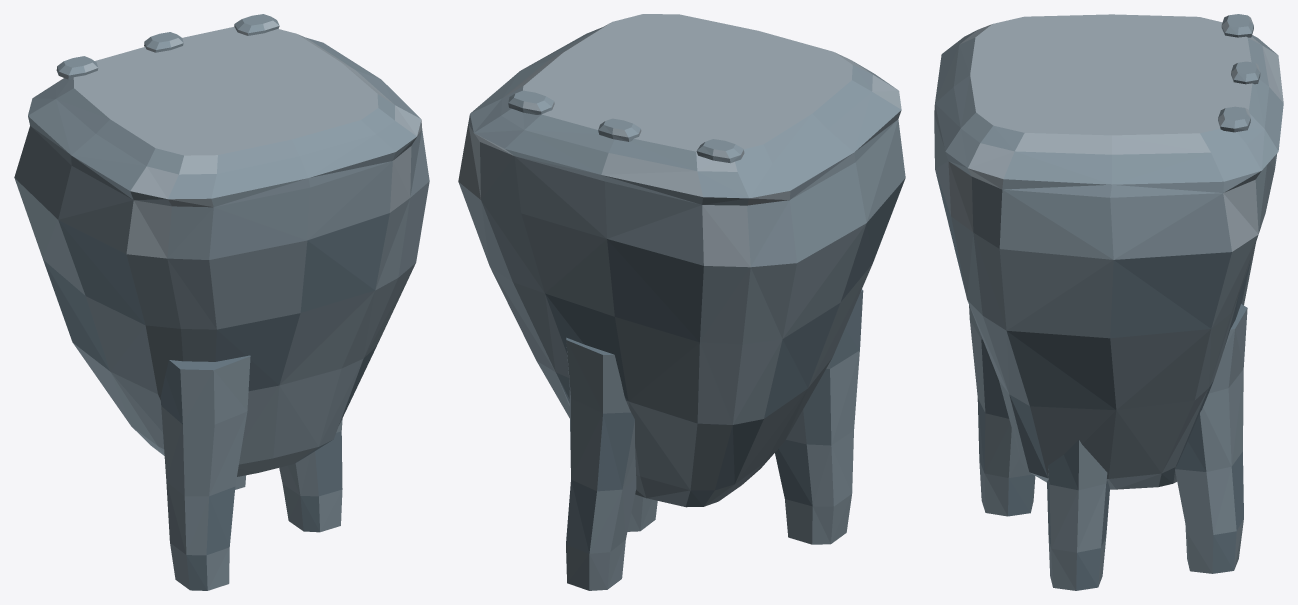
The model's file is geo01_large_cloud_sea_island_v2.glb.
3 views of the same model, side by side, from view 1: azimuth 30°, elevation 25°; view 2: azimuth 150°, elevation 25°; view 3: azimuth 270°, elevation 25° (orthographic). The views are drawn at different scales.
Parts seen in each view (by area): view 1: GEO01_Terrain_Large_CloudSea_Island_v2; view 2: GEO01_Terrain_Large_CloudSea_Island_v2; view 3: GEO01_Terrain_Large_CloudSea_Island_v2.
Part boxes in pixels (x1,y1,x2,y2): GEO01_Terrain_Large_CloudSea_Island_v2: (14, 14, 429, 590); GEO01_Terrain_Large_CloudSea_Island_v2: (458, 14, 905, 590); GEO01_Terrain_Large_CloudSea_Island_v2: (934, 14, 1283, 590).
Size of the model in its own units: 24 by 30 by 20.
